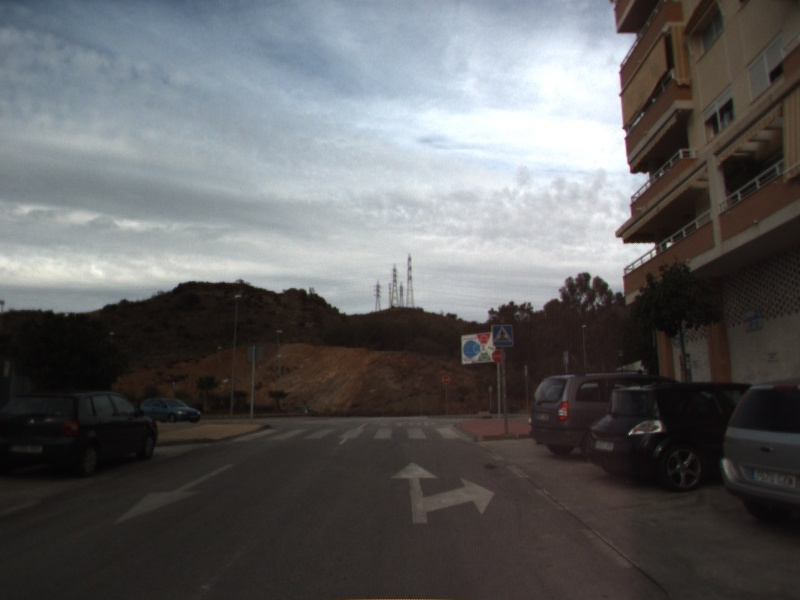STRAIGHT_RIGHT: (387, 459, 497, 526)
